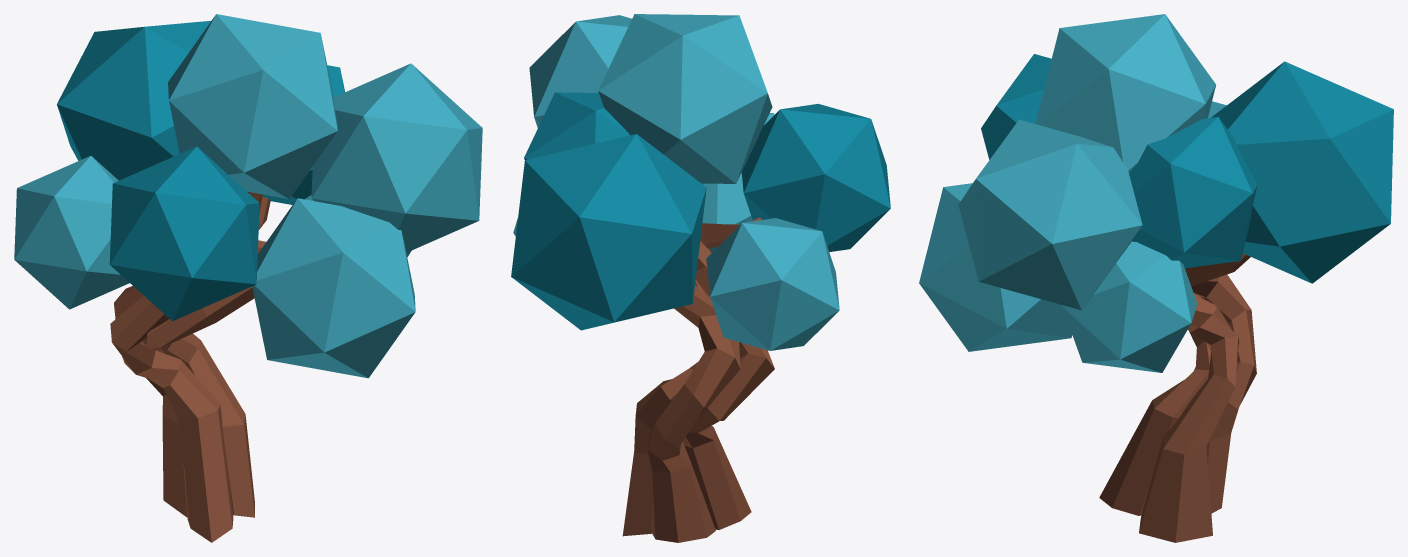
The model's file is Tree_06_summer_blue_mat.fbx.
3 views of the same model, side by side, from view 1: azimuth 30°, elevation 25°; view 2: azimuth 150°, elevation 25°; view 3: azimuth 270°, elevation 25° (orthographic). The views are drawn at different scales.
Visible parts, largest first — view 1: Tree_06_summer_blue_mat; view 2: Tree_06_summer_blue_mat; view 3: Tree_06_summer_blue_mat.
Boxes of the visible parts, x1=… form: Tree_06_summer_blue_mat: x1=14, y1=14, x2=482, y2=542; Tree_06_summer_blue_mat: x1=511, y1=14, x2=890, y2=542; Tree_06_summer_blue_mat: x1=919, y1=14, x2=1393, y2=542.
Bounding box in the file's own units: 488 × 598 × 507.
